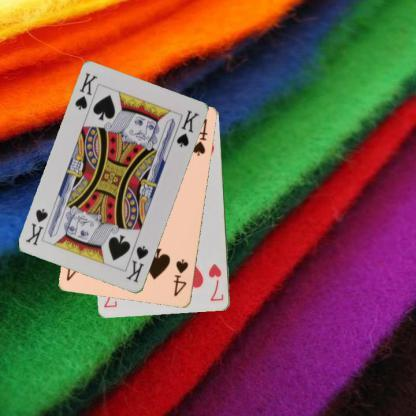4s: (171, 256, 190, 298)
7h: (206, 262, 224, 302)
Ks: (72, 70, 100, 112), (123, 244, 150, 284)
